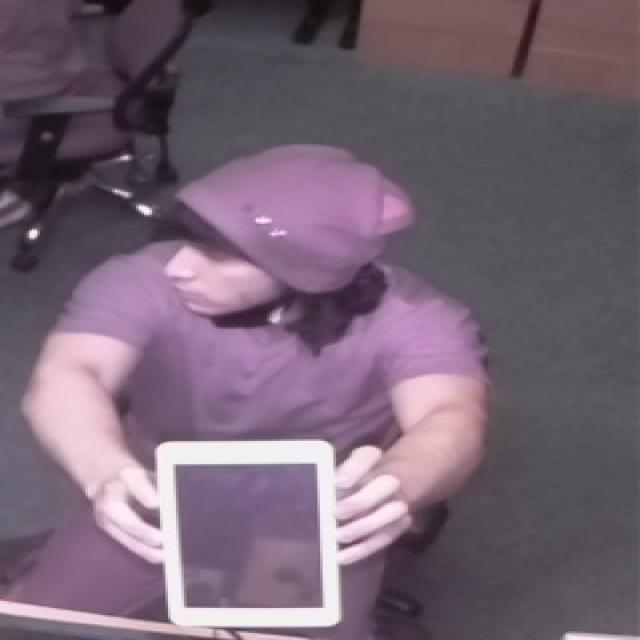phone: (147, 426, 363, 640)
